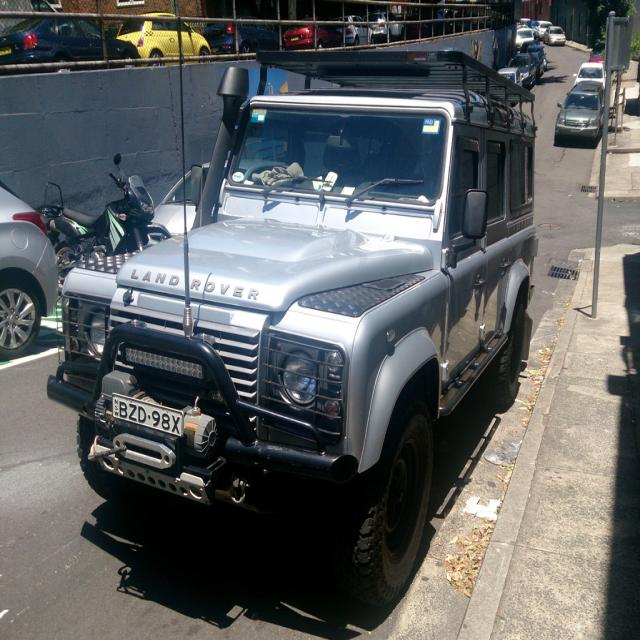car: (552, 76, 607, 150)
